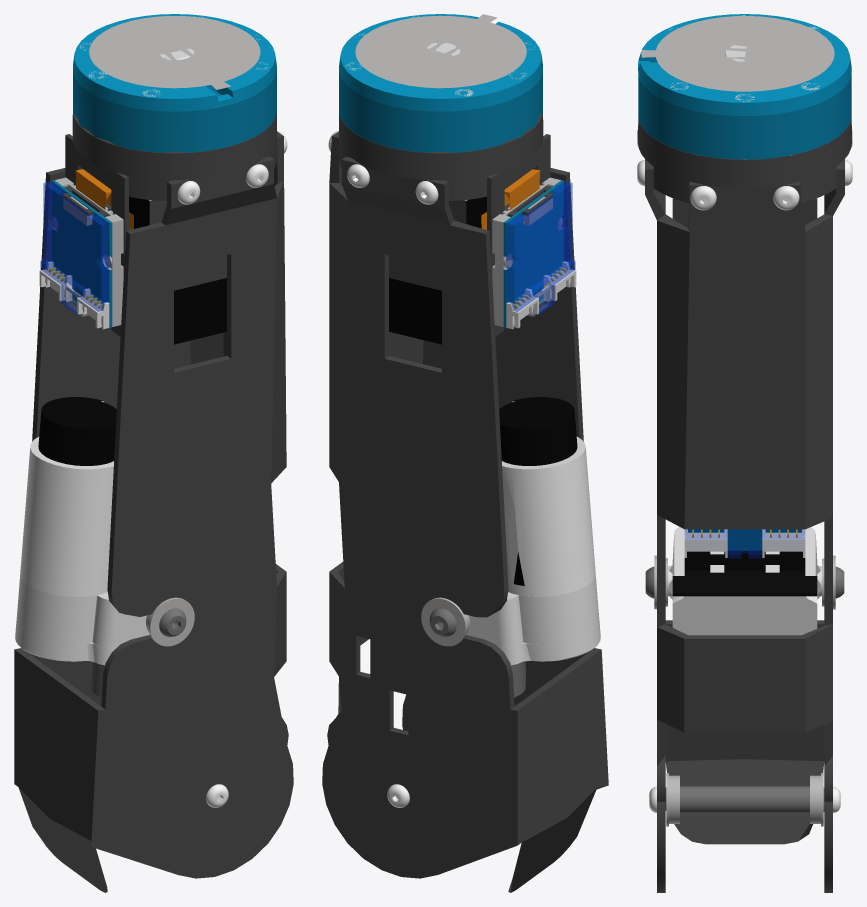
The model's file is upperarm_link.dae.
3 renders of one model, left to right at view 1: azimuth 30°, elevation 25°; view 2: azimuth 150°, elevation 25°; view 3: azimuth 270°, elevation 25°, orthographic. The views are drawn at different scales.
Parts seen in each view (by area): view 1: FBXASC227FBXASC130FBXASC189FBXASC227FBXASC131FBXASC170FBXASC (×19); view 2: FBXASC227FBXASC130FBXASC189FBXASC227FBXASC131FBXASC170FBXASC (×18); view 3: FBXASC227FBXASC130FBXASC189FBXASC227FBXASC131FBXASC170FBXASC (×17).
Part boxes in pixels (<box>): FBXASC227FBXASC130FBXASC189FBXASC227FBXASC131FBXASC170FBXASC (×19): <box>14,14,293,892</box>; FBXASC227FBXASC130FBXASC189FBXASC227FBXASC131FBXASC170FBXASC (×18): <box>322,14,608,892</box>; FBXASC227FBXASC130FBXASC189FBXASC227FBXASC131FBXASC170FBXASC (×17): <box>638,14,851,892</box>.
Size of the model in its own units: 0.0848 by 0.0624 by 0.2685.
